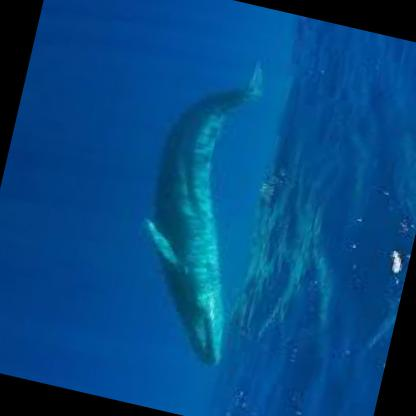blue_whale: (96, 53, 298, 376)
